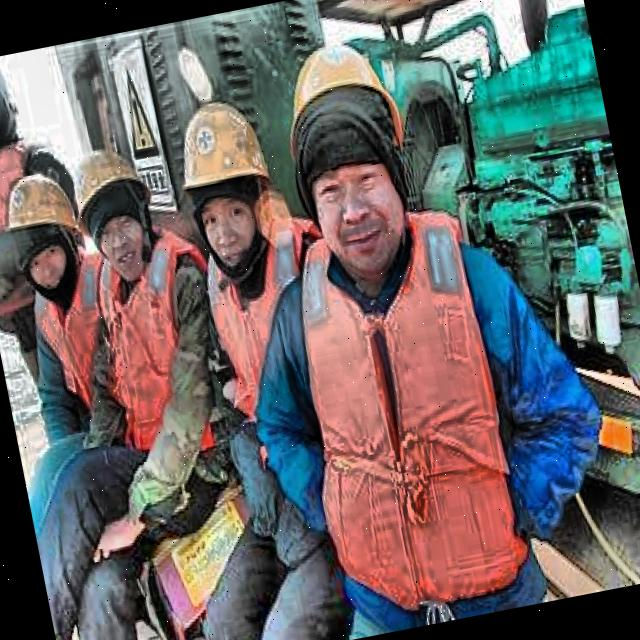helmet: (272, 27, 440, 317), (160, 83, 290, 285), (39, 134, 148, 300), (0, 147, 93, 326)
